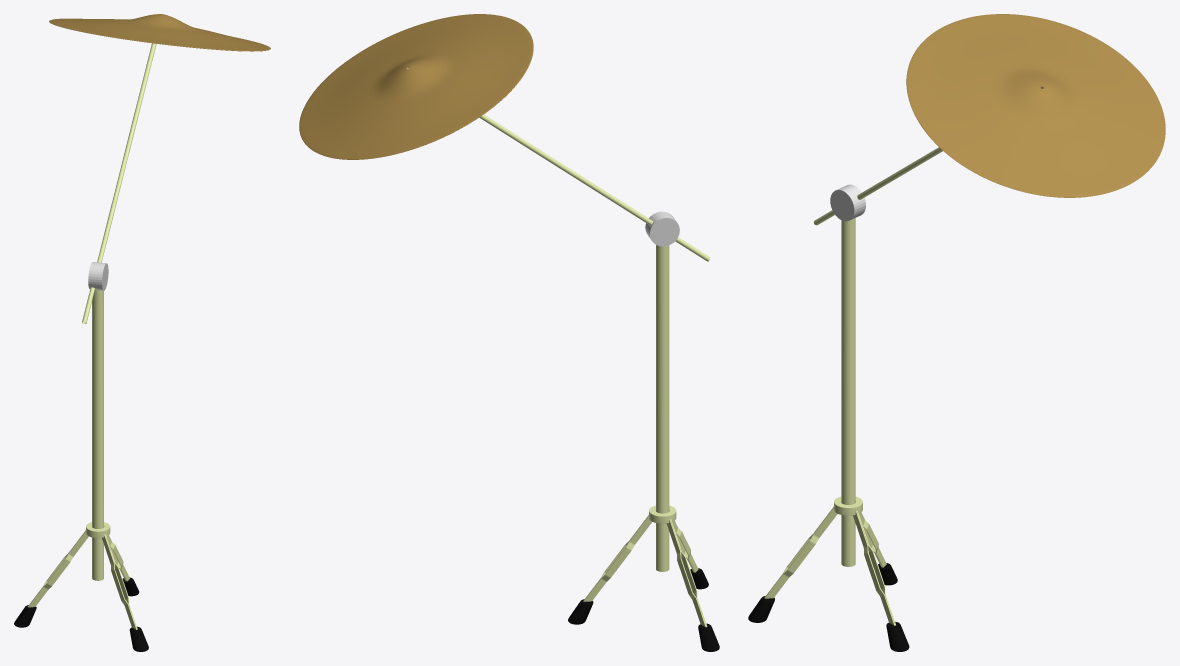
Rendered from Splash_Cymbal.fbx.
3 renders of one model, left to right at view 1: azimuth 30°, elevation 25°; view 2: azimuth 150°, elevation 25°; view 3: azimuth 270°, elevation 25°, orthographic. The views are drawn at different scales.
Parts seen in each view (by area): view 1: Snare_stand.003, Splash_Cymbal, Cylinder.015, Cylinder.016; view 2: Splash_Cymbal, Snare_stand.003, Cylinder.015, Cylinder.016; view 3: Splash_Cymbal, Snare_stand.003, Cylinder.016, Cylinder.015.
Part boxes in pixels (x1=…): Snare_stand.003: x1=14, y1=290, x2=148, y2=651; Splash_Cymbal: x1=49, y1=14, x2=270, y2=51; Cylinder.015: x1=82, y1=43, x2=156, y2=323; Cylinder.016: x1=88, y1=262, x2=108, y2=290; Splash_Cymbal: x1=299, y1=14, x2=533, y2=159; Snare_stand.003: x1=568, y1=245, x2=719, y2=651; Cylinder.015: x1=479, y1=114, x2=710, y2=261; Cylinder.016: x1=645, y1=211, x2=679, y2=246; Splash_Cymbal: x1=906, y1=14, x2=1165, y2=197; Snare_stand.003: x1=748, y1=218, x2=909, y2=651; Cylinder.016: x1=830, y1=184, x2=865, y2=221; Cylinder.015: x1=813, y1=87, x2=1042, y2=225.
Size of the model in its own units: 56.7 by 96.37 by 57.25.
